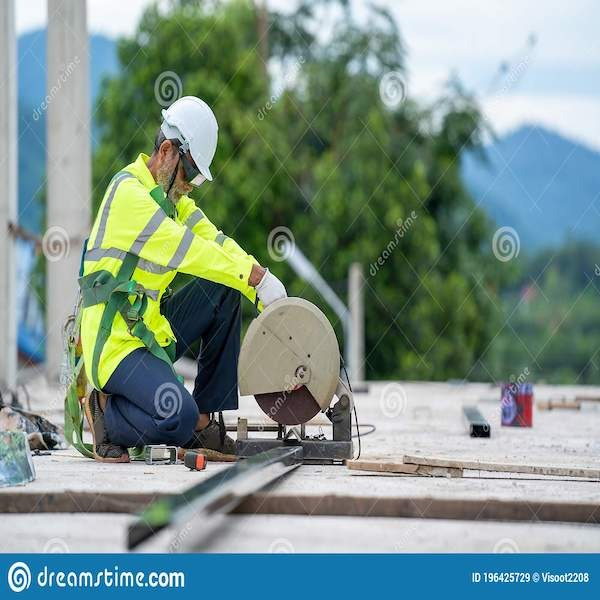helmet: (171, 95, 225, 175)
vest: (82, 171, 216, 378)
